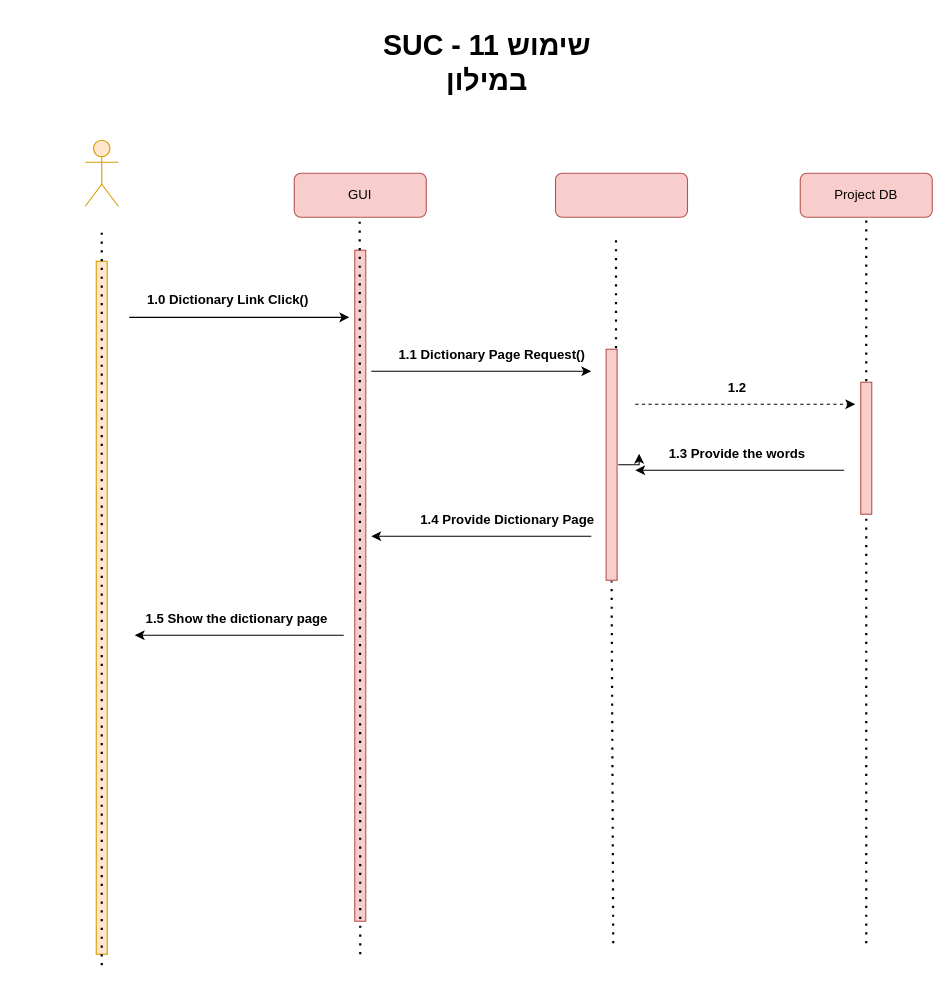
Image size: 952x986. Some labels were removed from this diagram. The shapes that lost their labels are listed below. From the top down, each one's centre as x and y in pixels, then its label:
At point 101,172: "logged user with exist profile".
At point 621,194: "Service Managment".
